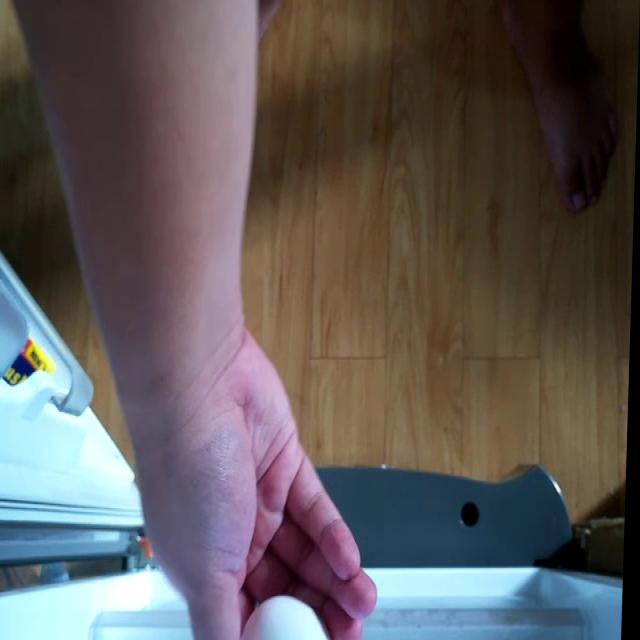egg: (244, 596, 335, 640)
